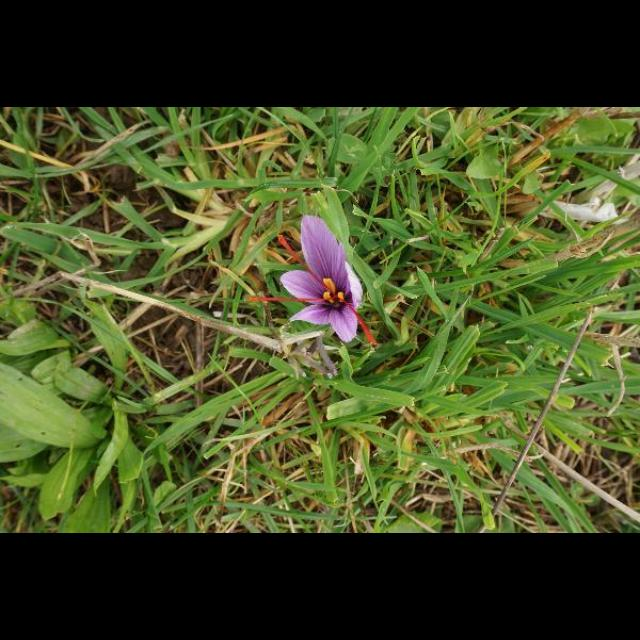flower: (245, 214, 379, 346)
